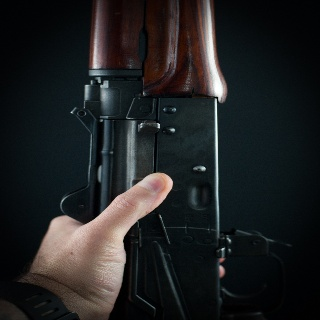rifle: (57, 1, 293, 320)
